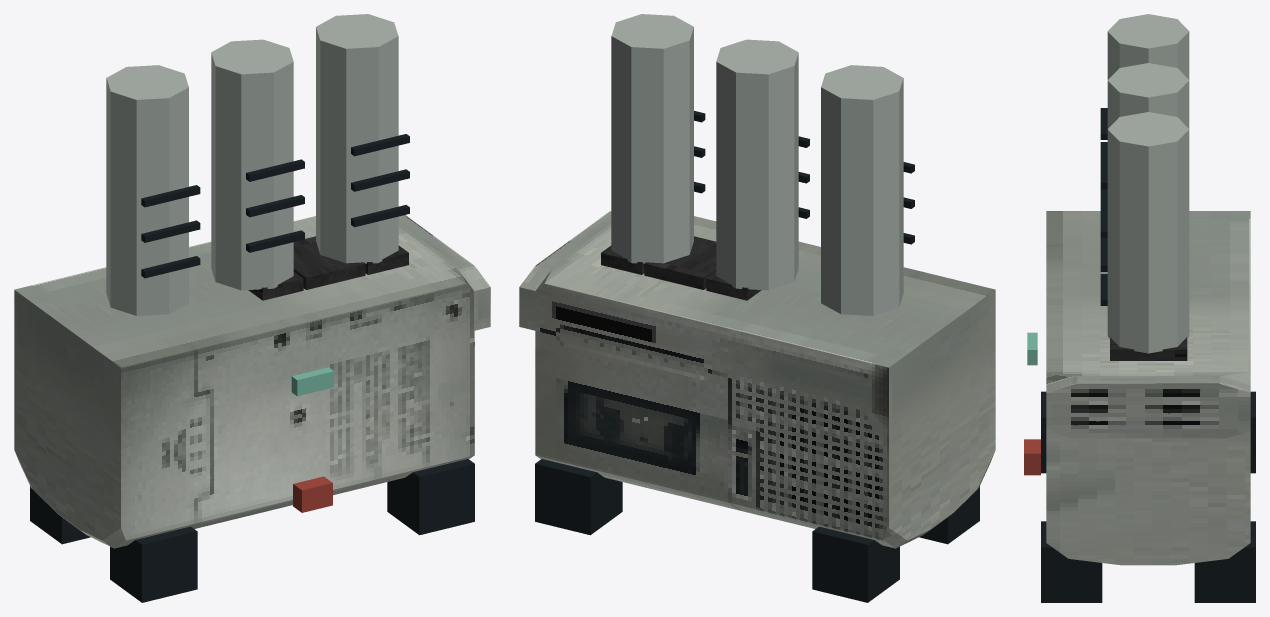
Rendered from blender_sound_sensor_3.glb.
3 renders of one model, left to right at view 1: azimuth 30°, elevation 25°; view 2: azimuth 150°, elevation 25°; view 3: azimuth 270°, elevation 25°, orthographic. The views are drawn at different scales.
Parts seen in each view (by area): view 1: blender_sound_sensor_3; view 2: blender_sound_sensor_3; view 3: blender_sound_sensor_3.
Boxes of the visible parts, <box> form: blender_sound_sensor_3: <box>14,14,490,602</box>; blender_sound_sensor_3: <box>519,14,995,602</box>; blender_sound_sensor_3: <box>1024,14,1255,602</box>.
Bounding box in the file's own units: 0.12 × 0.144 × 0.068.
1 material, 1 textured.
